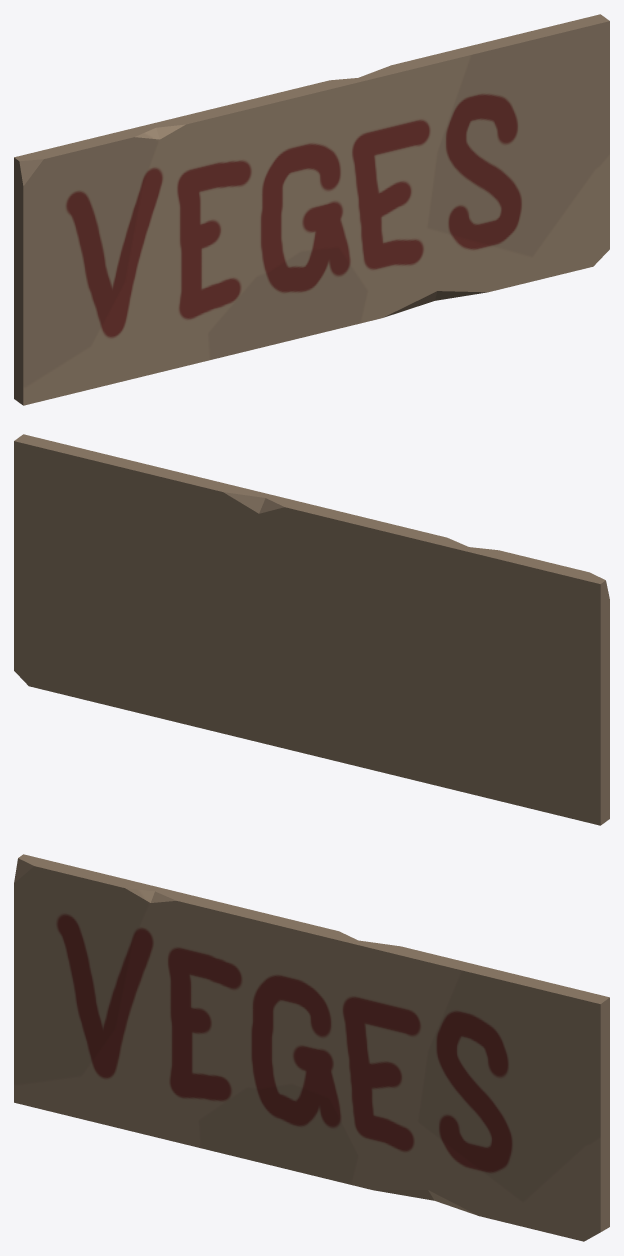
The model's file is SM_Prop_Sign_Veges_01.fbx.
3 renders of one model, top to bottom at view 1: azimuth 30°, elevation 25°; view 2: azimuth 150°, elevation 25°; view 3: azimuth 330°, elevation 25°, orthographic.
Parts seen in each view (by area): view 1: SM_Prop_Sign_Veges_01; view 2: SM_Prop_Sign_Veges_01; view 3: SM_Prop_Sign_Veges_01.
Part boxes in pixels (x1=…): SM_Prop_Sign_Veges_01: x1=14, y1=14, x2=609, y2=405; SM_Prop_Sign_Veges_01: x1=14, y1=434, x2=609, y2=825; SM_Prop_Sign_Veges_01: x1=14, y1=854, x2=609, y2=1241.
Bounding box in the file's own units: 86.87 × 34.18 × 2.41.
